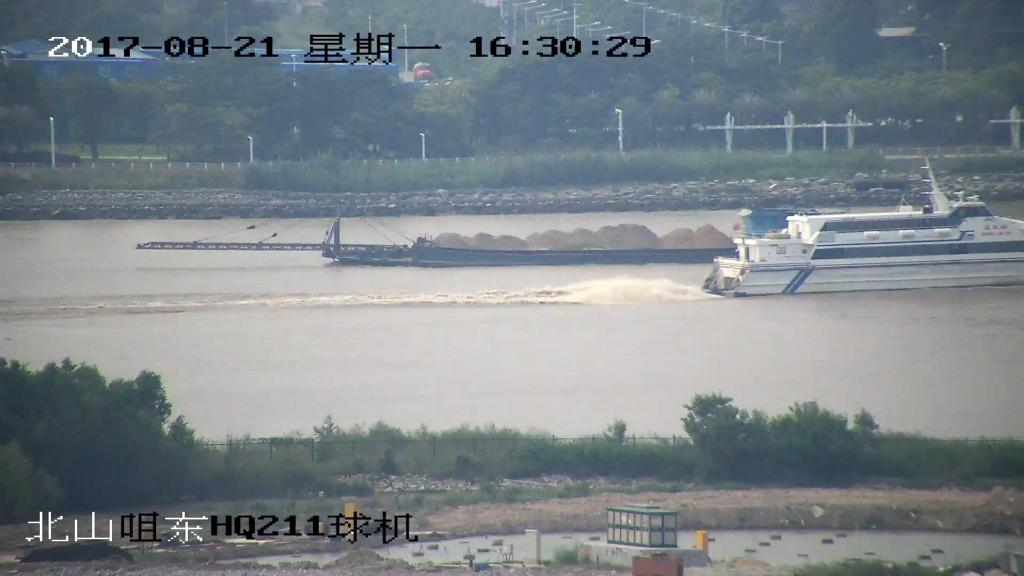PassengerShip: (694, 171, 1024, 305)
